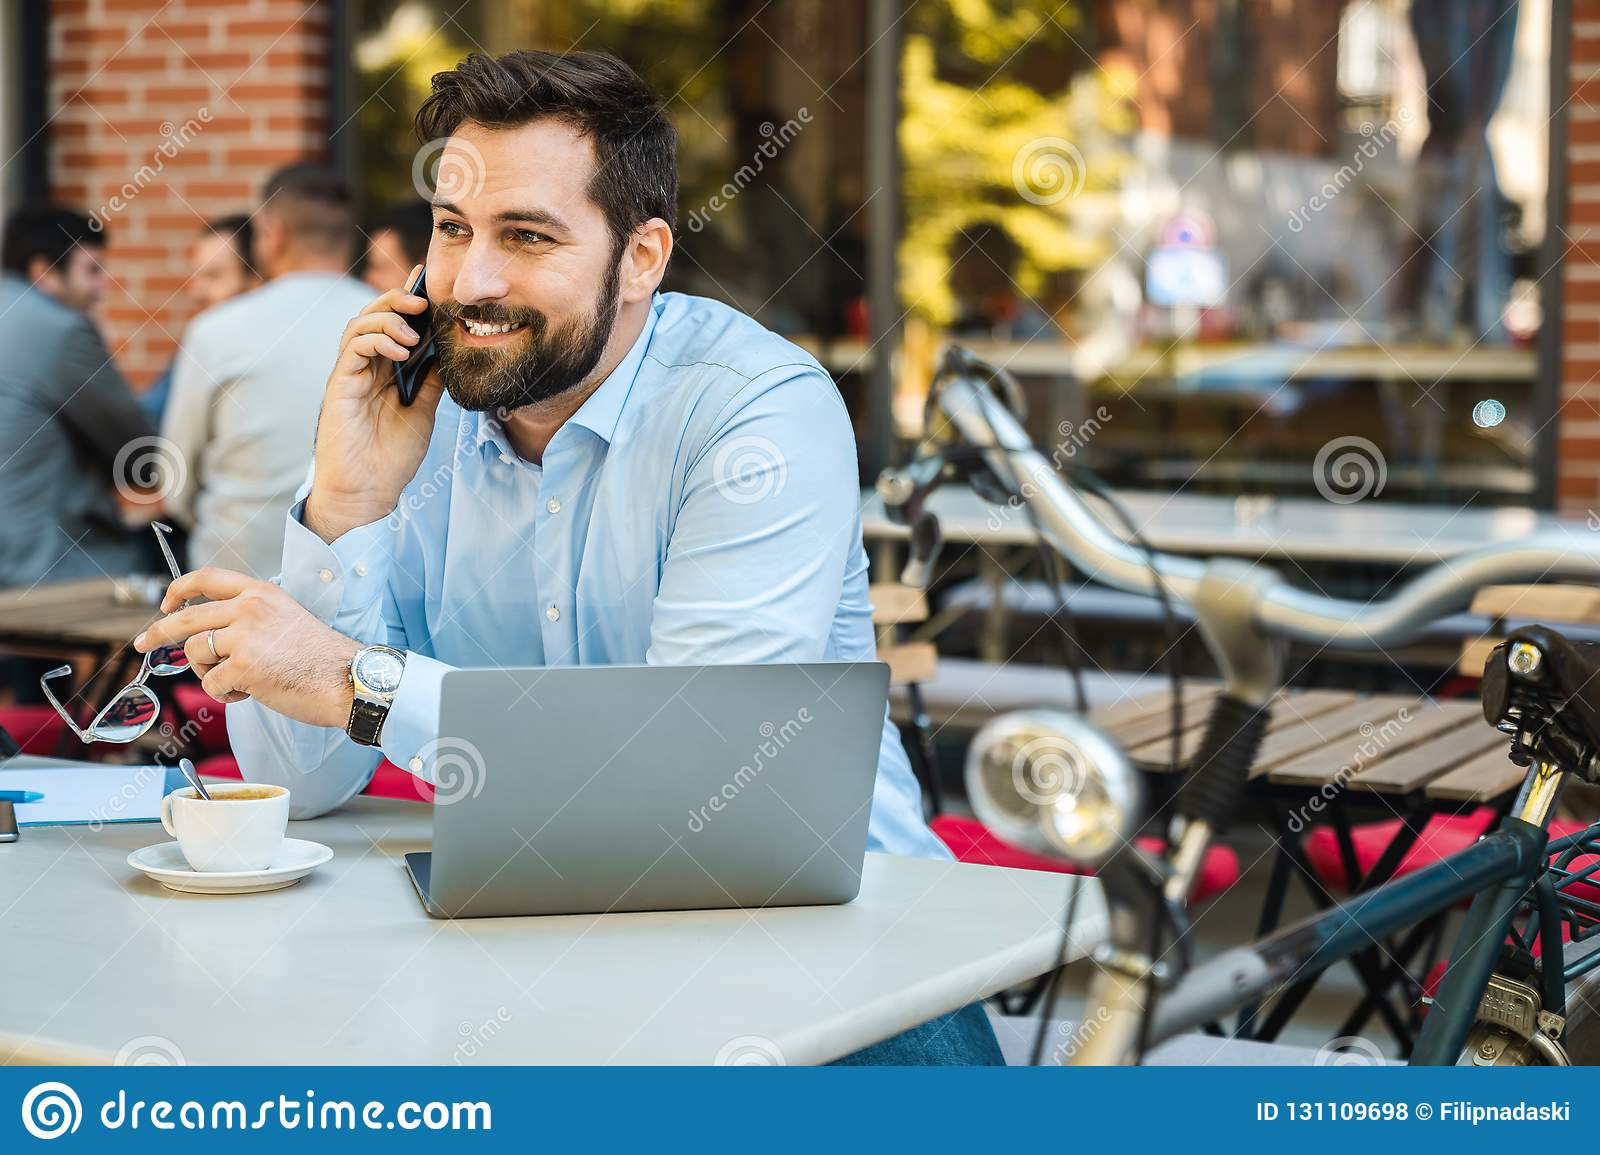phone: (388, 257, 436, 407)
talk: (312, 176, 581, 492)
